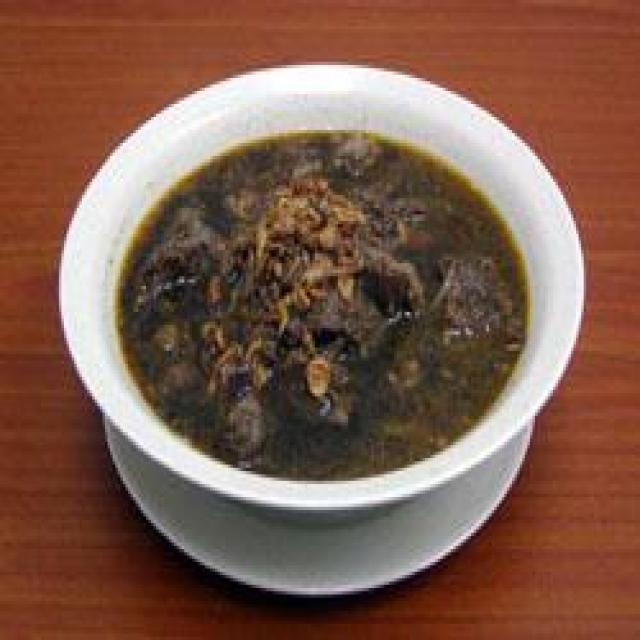Rawon: (108, 121, 524, 460)
